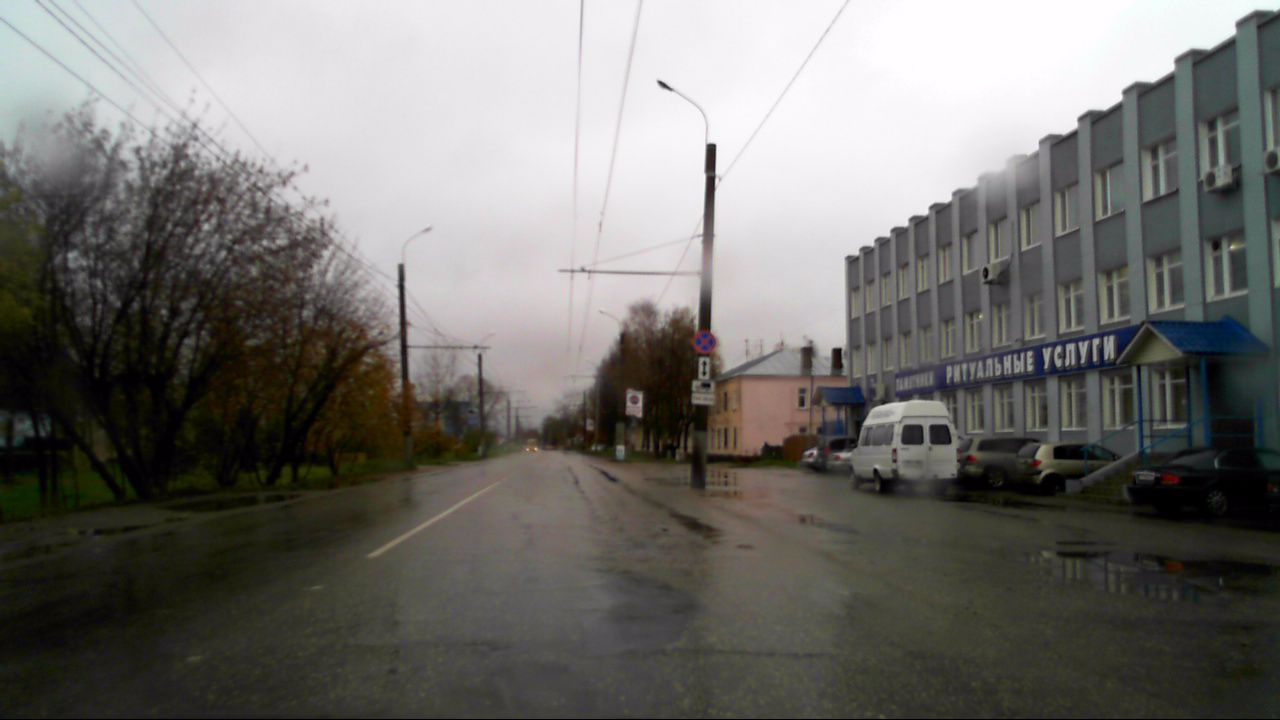No Parking: (689, 328, 718, 354)
